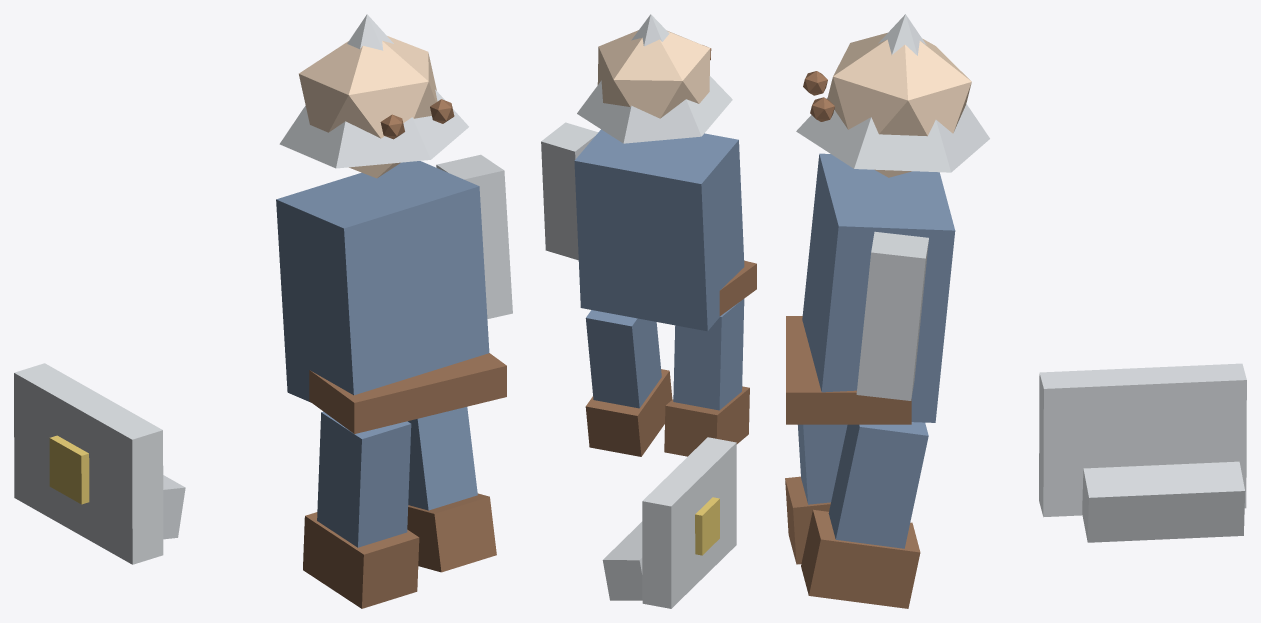
Rendered from npcpose_guard_attack_08.glb.
3 views of the same model, side by side, from view 1: azimuth 30°, elevation 25°; view 2: azimuth 150°, elevation 25°; view 3: azimuth 270°, elevation 25° (orthographic). The views are drawn at different scales.
Visible parts, largest first — view 1: npcpose; view 2: npcpose; view 3: npcpose.
Part boxes in pixels (x1,y1,x2,y2): npcpose: [14, 14, 512, 608]; npcpose: [541, 14, 756, 608]; npcpose: [785, 14, 1246, 608].
Bounding box in the file's own units: 0.9506 × 1.63 × 1.18.
